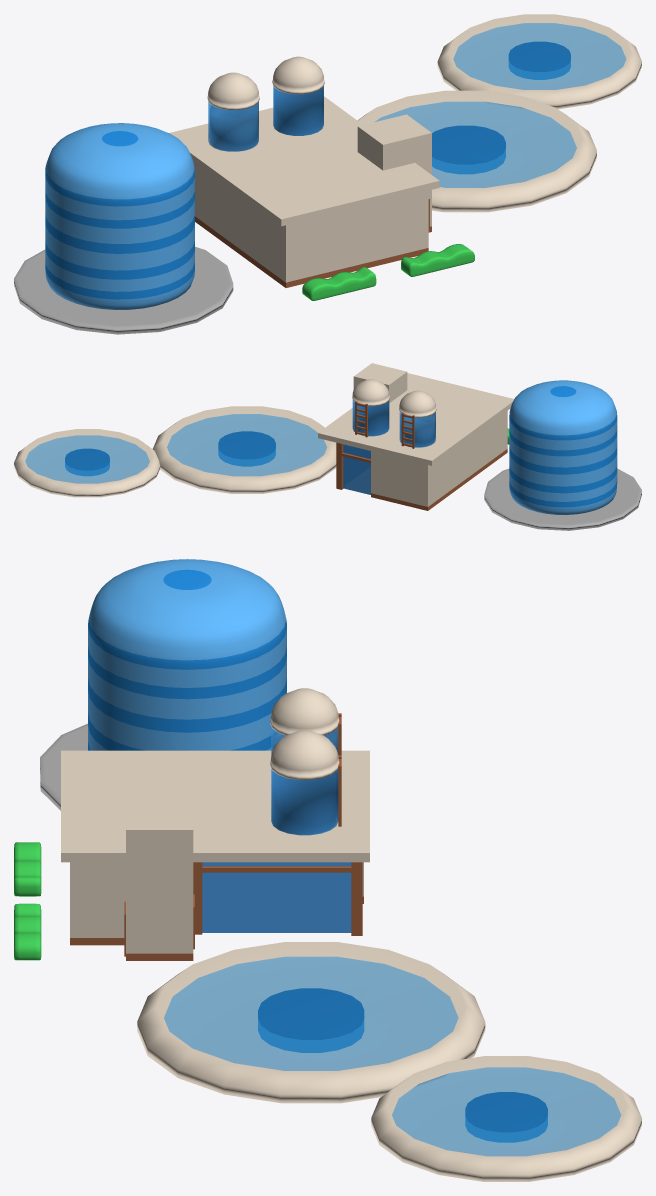
Rendered from MiniWorld_easternTreatmentPlan.glb.
The picture shows the model from 3 angles, top to bottom: view 1: azimuth 30°, elevation 25°; view 2: azimuth 150°, elevation 25°; view 3: azimuth 270°, elevation 25°; orthographic projection. The views are drawn at different scales.
Parts seen in each view (by area): view 1: waterTank.001, pool02.001, roof.001, pool01.001, wall.001, base_waterTank.001, waterTower01.001, waterTower02.001, sideTower.001, water_inTower02.001, bush02.001, bush01.001; view 2: waterTank.001, pool02.001, pool01.001, roof.001, wall.001, base_waterTank.001, waterTower01.001, waterTower02.001, windows02.002, sideTower.001, water_inTower02.001, pillar02.001; view 3: pool02.001, waterTank.001, pool01.001, roof.001, sideTower.001, windows01.002, waterTower01.001, wall.001, waterTower02.001, base_waterTank.001, bush01.001, bush02.001 (+2 smaller).
Part boxes in pixels (bbox=[...]): waterTank.001: bbox=[45, 123, 194, 309]; pool02.001: bbox=[357, 90, 596, 212]; roof.001: bbox=[169, 96, 439, 226]; pool01.001: bbox=[437, 14, 641, 109]; wall.001: bbox=[194, 163, 428, 287]; base_waterTank.001: bbox=[14, 247, 233, 334]; waterTower01.001: bbox=[272, 56, 324, 135]; waterTower02.001: bbox=[207, 72, 259, 151]; sideTower.001: bbox=[357, 114, 431, 232]; water_inTower02.001: bbox=[210, 104, 257, 151]; bush02.001: bbox=[302, 267, 376, 300]; bush01.001: bbox=[401, 244, 474, 276]; waterTank.001: bbox=[509, 380, 617, 514]; pool02.001: bbox=[153, 406, 336, 493]; pool01.001: bbox=[14, 429, 160, 497]; roof.001: bbox=[318, 373, 514, 465]; wall.001: bbox=[371, 411, 507, 510]; base_waterTank.001: bbox=[484, 468, 641, 530]; waterTower01.001: bbox=[352, 379, 389, 436]; waterTower02.001: bbox=[399, 390, 436, 447]; windows02.002: bbox=[343, 444, 370, 494]; sideTower.001: bbox=[353, 363, 407, 402]; water_inTower02.001: bbox=[400, 414, 434, 446]; pillar02.001: bbox=[336, 442, 343, 489]; pool02.001: bbox=[137, 942, 485, 1103]; waterTank.001: bbox=[88, 559, 286, 750]; pool01.001: bbox=[371, 1056, 641, 1181]; roof.001: bbox=[61, 750, 369, 862]; sideTower.001: bbox=[126, 798, 193, 960]; windows01.002: bbox=[202, 862, 351, 932]; waterTower01.001: bbox=[270, 730, 339, 835]; wall.001: bbox=[70, 862, 363, 945]; waterTower02.001: bbox=[270, 688, 339, 754]; base_waterTank.001: bbox=[40, 723, 87, 810]; bush01.001: bbox=[14, 903, 41, 960]; bush02.001: bbox=[14, 842, 41, 896].
Bounding box in the file's own units: 32.75 × 6.49 × 18.7.
